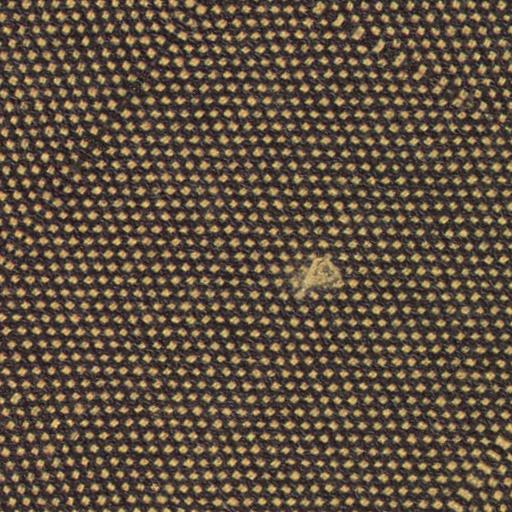knot: (291, 246, 346, 305)
